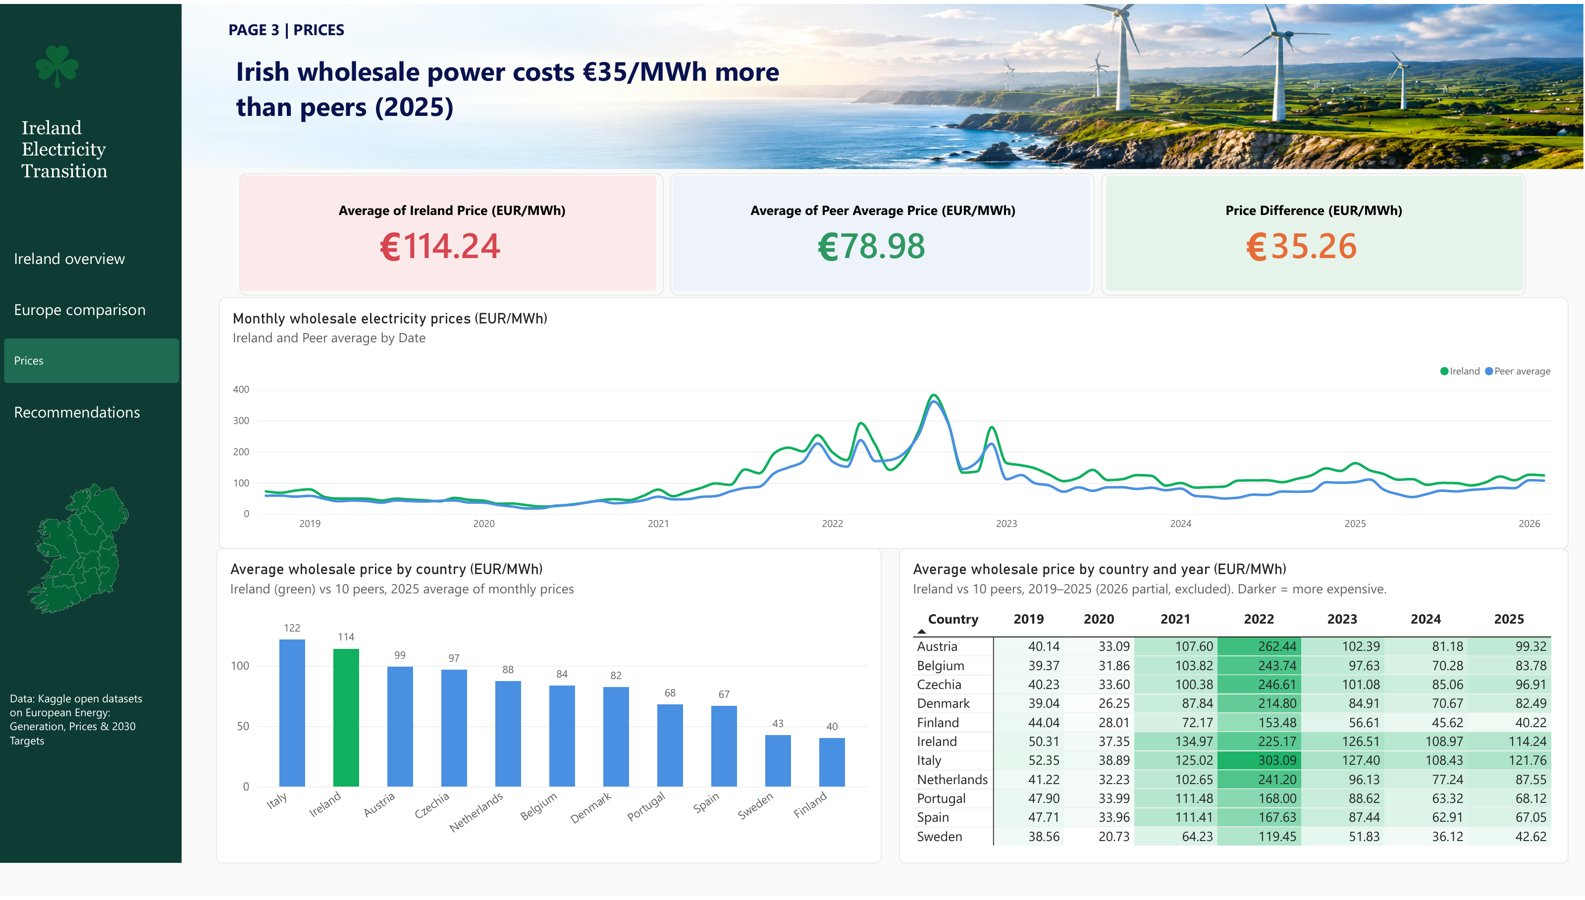

What the dashboard file says about the page in this screenshot:
{"tool":"powerbi","page":{"name":"Prices","canvas":[1920,1080],"ordinal":2},"visuals":[{"type":"actionButton","box":[815,208,505,139],"z":0},{"type":"actionButton","box":[290,208,505,139],"z":1000},{"type":"actionButton","box":[1340,208,505,139],"z":2000},{"type":"image","box":[218.8,0,1699.2,199.9],"z":3000},{"type":"lineChart","title":"Monthly wholesale electricity prices (EUR/MWh)","fields":{"Category":["Ireland vs Peers Monthly.Date"],"Y":["Sum(Ireland vs Peers Monthly.Ireland Price (EUR/MWh))","Sum(Ireland vs Peers Monthly.Peer Average Price (EUR/MWh))"]},"box":[264.7,354.5,1635.4,304.6],"z":4000},{"type":"clusteredColumnChart","title":"Average wholesale price by country (EUR/MWh)","fields":{"Category":["Countries.Country"],"Y":["Avg(Monthly Prices.Price (EUR/MWh))"]},"box":[262.2,659.1,806.4,382],"z":5000},{"type":"shape","box":[0,0,220,1040],"z":6000},{"type":"textbox","box":[20,520,180,140],"z":7000},{"type":"pageNavigator","box":[5,281,212,241],"z":8000},{"type":"actionButton","box":[14,131,171,121],"z":9000},{"type":"actionButton","box":[265,12,1100,35],"z":10000},{"type":"actionButton","box":[274.1,45.7,718.2,111.5],"z":11000},{"type":"cardVisual","fields":{"Data":["Avg(Ireland vs Peers Monthly.Ireland Price (EUR/MWh))","Avg(Ireland vs Peers Monthly.Peer Average Price (EUR/MWh))","Key Measures.Price Difference (EUR/MWh)"]},"box":[288.8,203.9,1560,150],"z":12000},{"type":"textbox","box":[458.7,259.5,53,84.1],"z":13000},{"type":"textbox","box":[988.6,259.5,53,84.1],"z":14000},{"type":"textbox","box":[1507.6,259.5,53,84.1],"z":15000},{"type":"image","box":[27.5,45.8,84.7,59.5],"z":16000},{"type":"image","box":[16,567.5,164.8,180.8],"z":17000},{"type":"pivotTable","title":"Average wholesale price by country and year (EUR/MWh)","fields":{"Columns":["Dates.Year"],"Rows":["Countries.Country"],"Values":["Avg(Monthly Prices.Price (EUR/MWh))"]},"box":[1088.6,659.1,811.4,382],"z":18000},{"type":"actionButton","box":[0,825.5,197.9,102],"z":19000}]}

Visuals, with their boxes on the page's 1920x1080 design canvas (x1, y1, x2, y2). These are canvas units, not pixel positions in the 1585x900 screenshot, which may show the page scaled, cropped or inside an application window:
actionButton: rect(815, 208, 1320, 347)
actionButton: rect(290, 208, 795, 347)
actionButton: rect(1340, 208, 1845, 347)
image: rect(219, 0, 1918, 200)
"Monthly wholesale electricity prices (EUR/MWh)" lineChart: rect(265, 354, 1900, 659)
"Average wholesale price by country (EUR/MWh)" clusteredColumnChart: rect(262, 659, 1069, 1041)
shape: rect(0, 0, 220, 1040)
textbox: rect(20, 520, 200, 660)
pageNavigator: rect(5, 281, 217, 522)
actionButton: rect(14, 131, 185, 252)
actionButton: rect(265, 12, 1365, 47)
actionButton: rect(274, 46, 992, 157)
cardVisual - Avg(Ireland vs Peers Monthly.Ireland Price (EUR/MWh)) x Avg(Ireland vs Peers Monthly.Peer Average Price (EUR/MWh)): rect(289, 204, 1849, 354)
textbox: rect(459, 260, 512, 344)
textbox: rect(989, 260, 1042, 344)
textbox: rect(1508, 260, 1561, 344)
image: rect(28, 46, 112, 105)
image: rect(16, 568, 181, 748)
"Average wholesale price by country and year (EUR/MWh)" pivotTable: rect(1089, 659, 1900, 1041)
actionButton: rect(0, 826, 198, 928)
